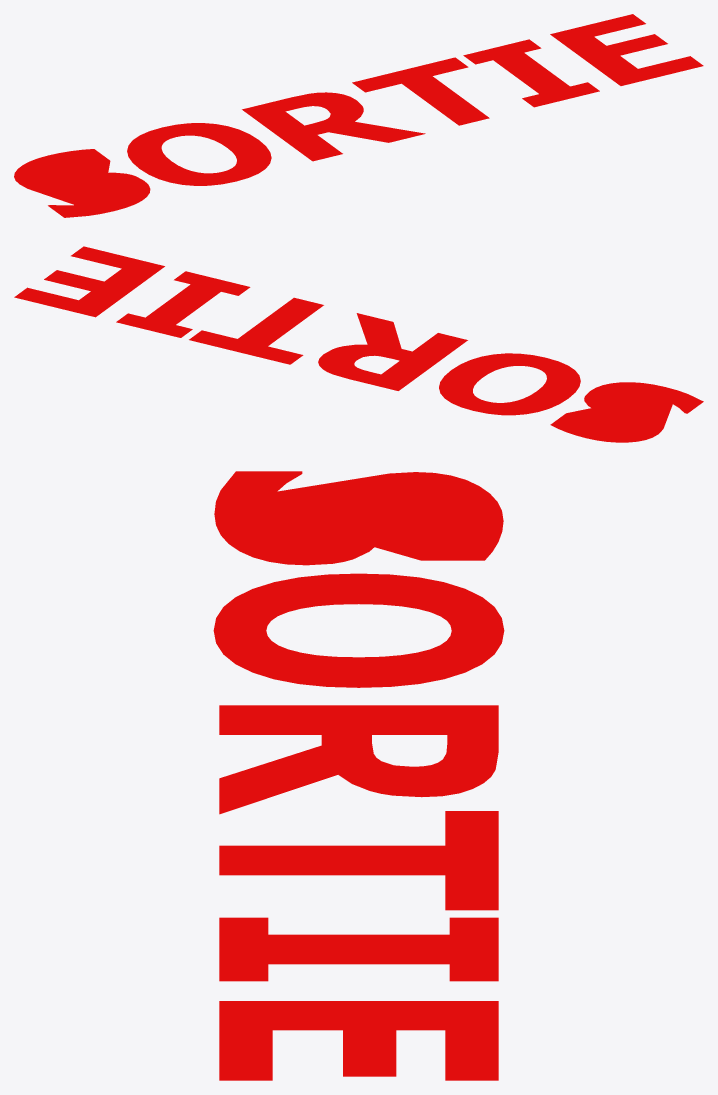
The model's file is plan_maison_Export.fbx.
3 views of the same model, one above another, from view 1: azimuth 30°, elevation 25°; view 2: azimuth 150°, elevation 25°; view 3: azimuth 270°, elevation 25° (orthographic). The views are drawn at different scales.
Parts seen in each view (by area): view 1: SORTIE1; view 2: SORTIE1; view 3: SORTIE1.
Part boxes in pixels (x1=…): SORTIE1: x1=14, y1=14, x2=703, y2=217; SORTIE1: x1=14, y1=246, x2=703, y2=442; SORTIE1: x1=213, y1=471, x2=504, y2=1080.
Size of what is drawn, in the model's own units: 9.83 by 0 by 1.98.
